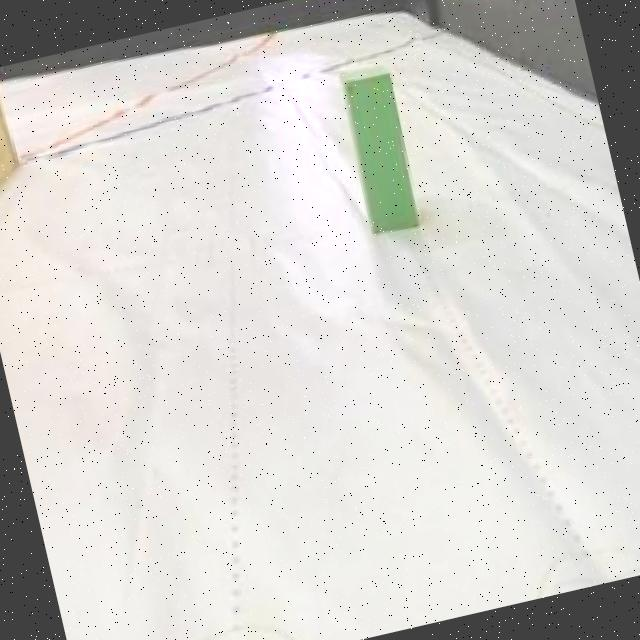greenbox: (338, 64, 425, 236)
